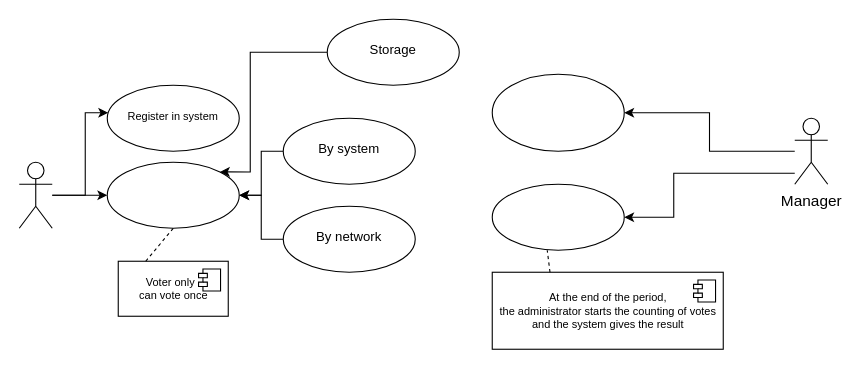
Image size: 860x369. Some labels were removed from this diagram. The centre of each missing label's shape, as x and y in pixels:
"definition of vote count" belongs at pixel 557 216.
"fills the list of candidates" belongs at pixel 557 112.
"Vote" belongs at pixel 172 194.
"Voter" belongs at pixel 35 194.
